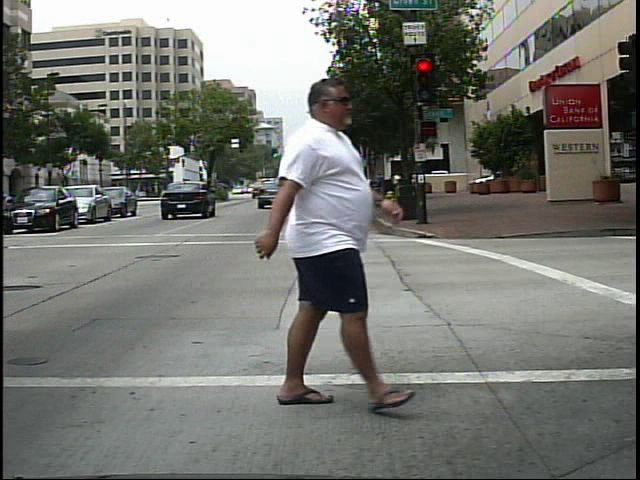person: (238, 71, 394, 417)
